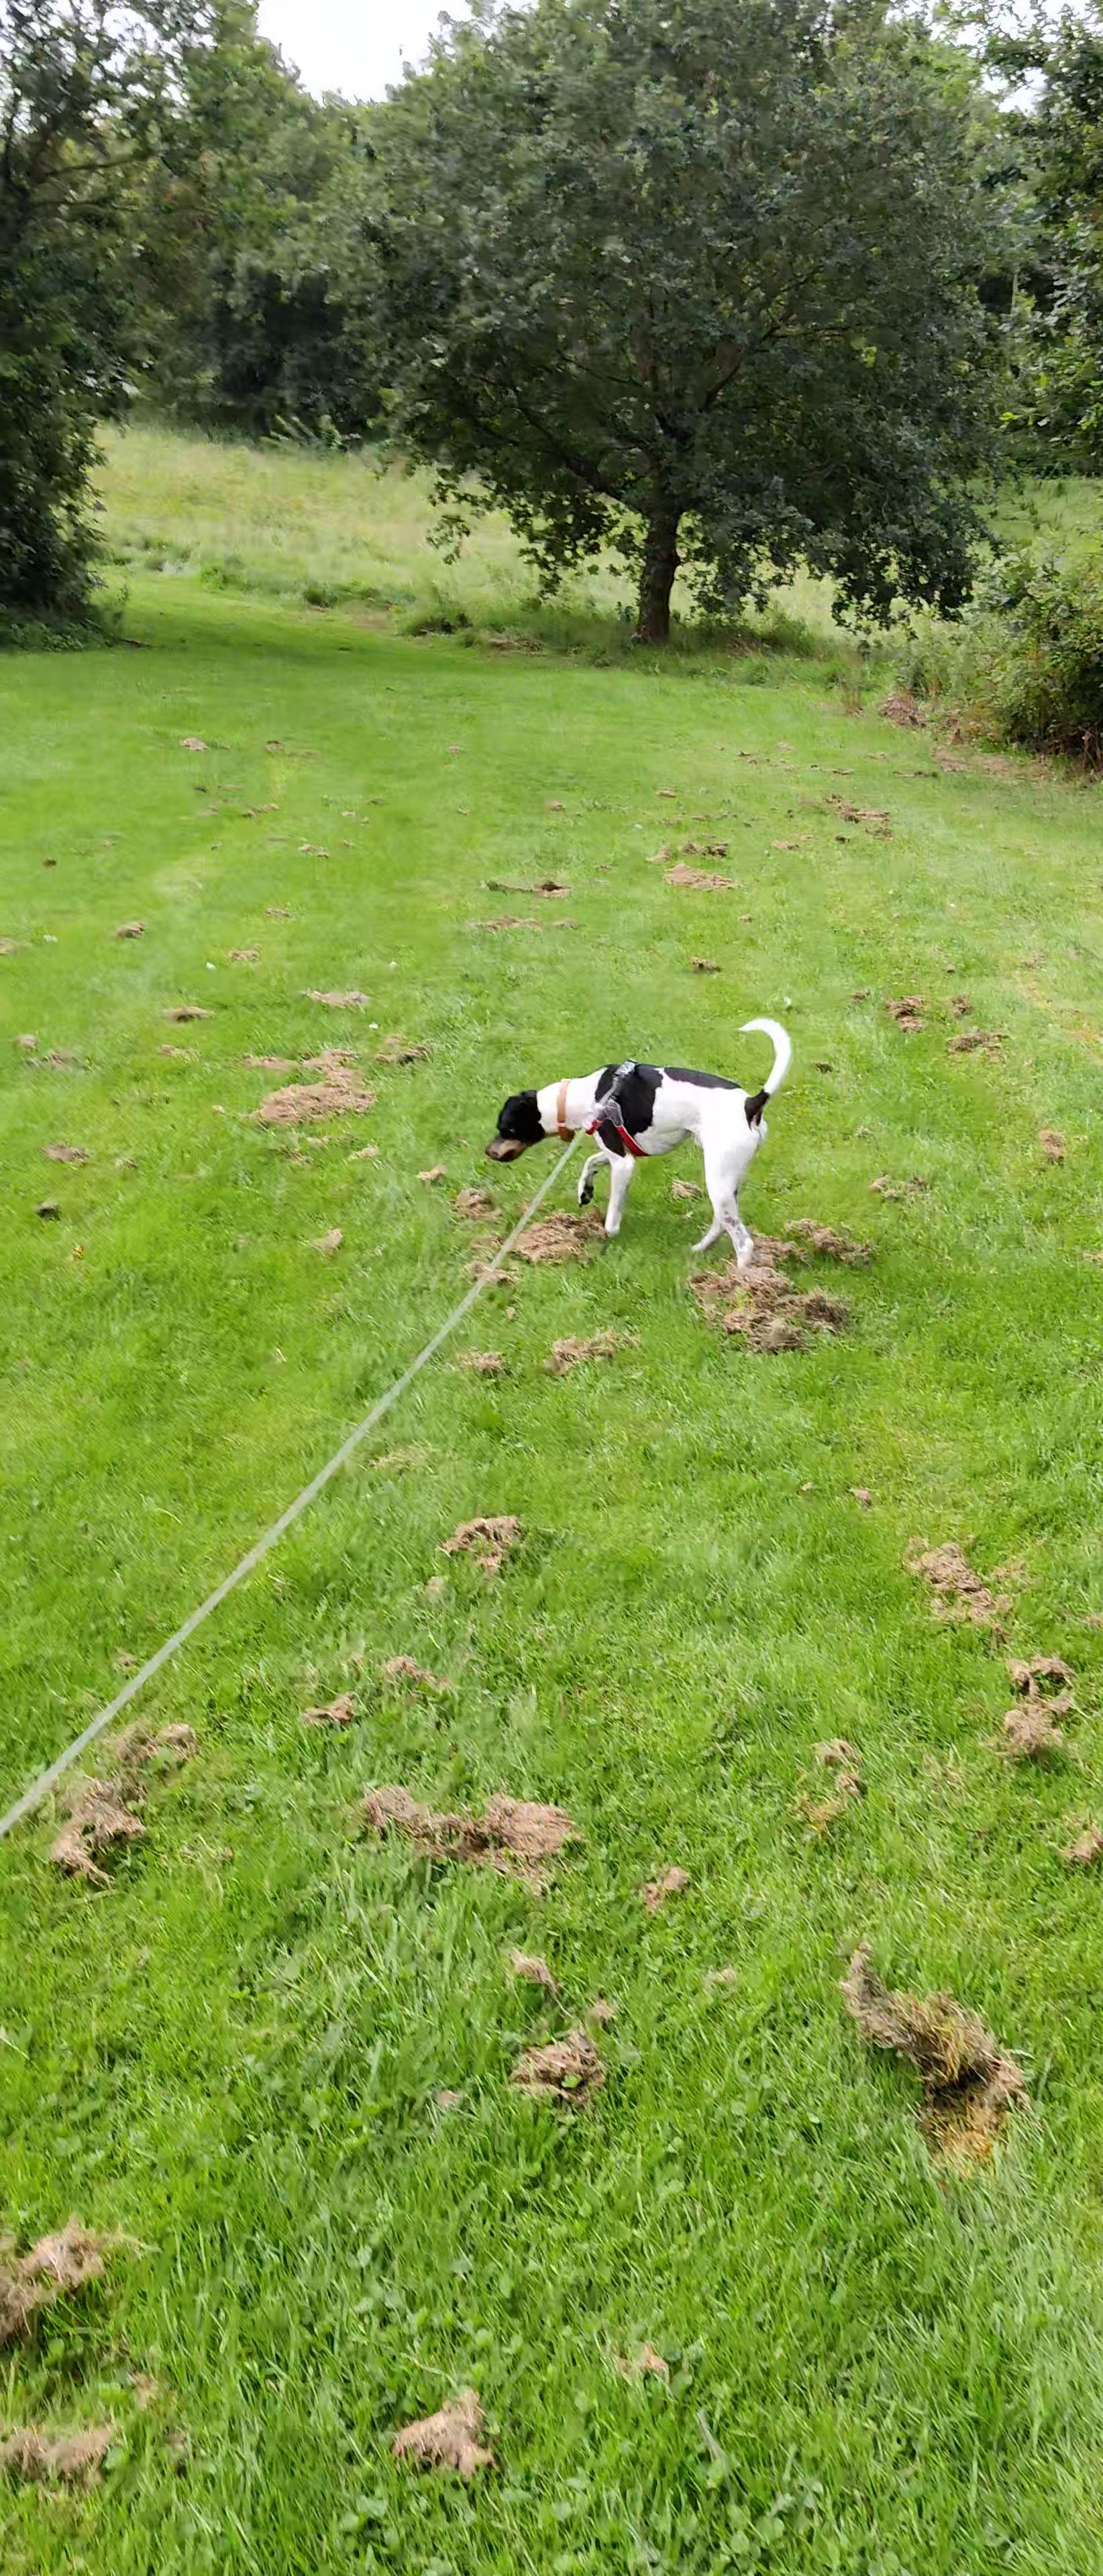Dog: (482, 1012, 797, 1273)
